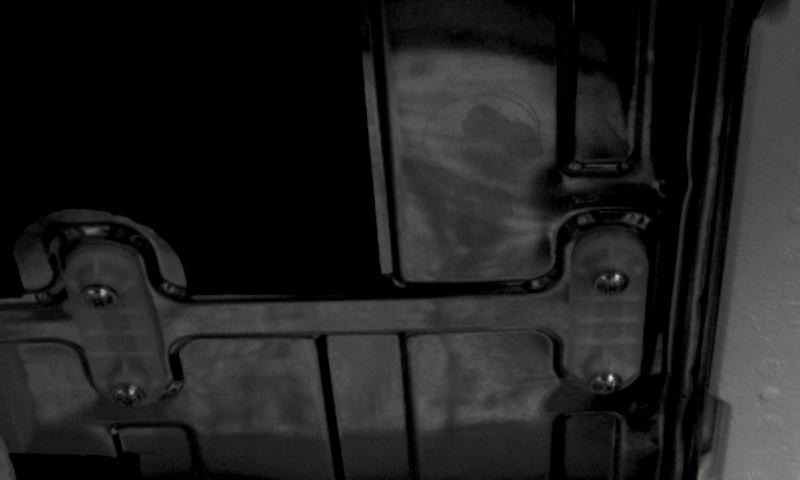vida-ok: (590, 259, 633, 304), (81, 267, 121, 312), (106, 369, 148, 409), (586, 359, 626, 398)
